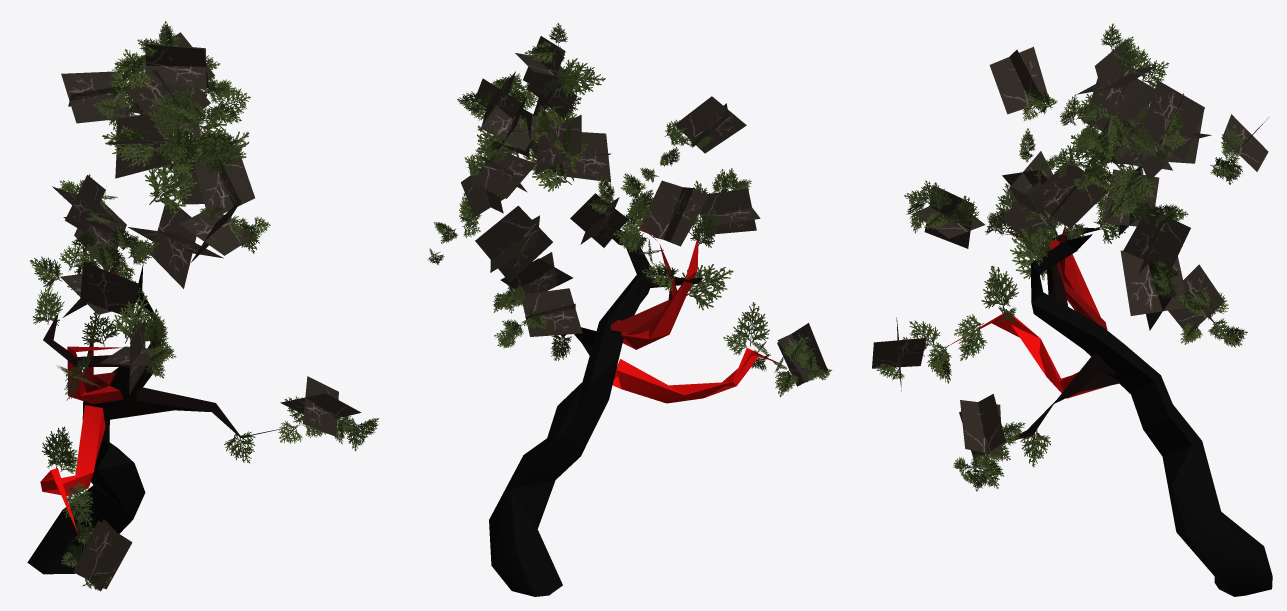
Rendered from cpine3 lod1.FBX.
The picture shows the model from 3 angles, left to right: view 1: azimuth 30°, elevation 25°; view 2: azimuth 150°, elevation 25°; view 3: azimuth 270°, elevation 25°; orthographic projection. The views are drawn at different scales.
Visible parts, largest first — view 1: cpine3_LOD1; view 2: cpine3_LOD1; view 3: cpine3_LOD1.
Part boxes in pixels (x1,y1,x2,y2): cpine3_LOD1: (27, 21, 378, 591); cpine3_LOD1: (427, 23, 832, 596); cpine3_LOD1: (872, 23, 1272, 596).
Bounding box in the file's own units: 104681 × 164595 × 103906.
